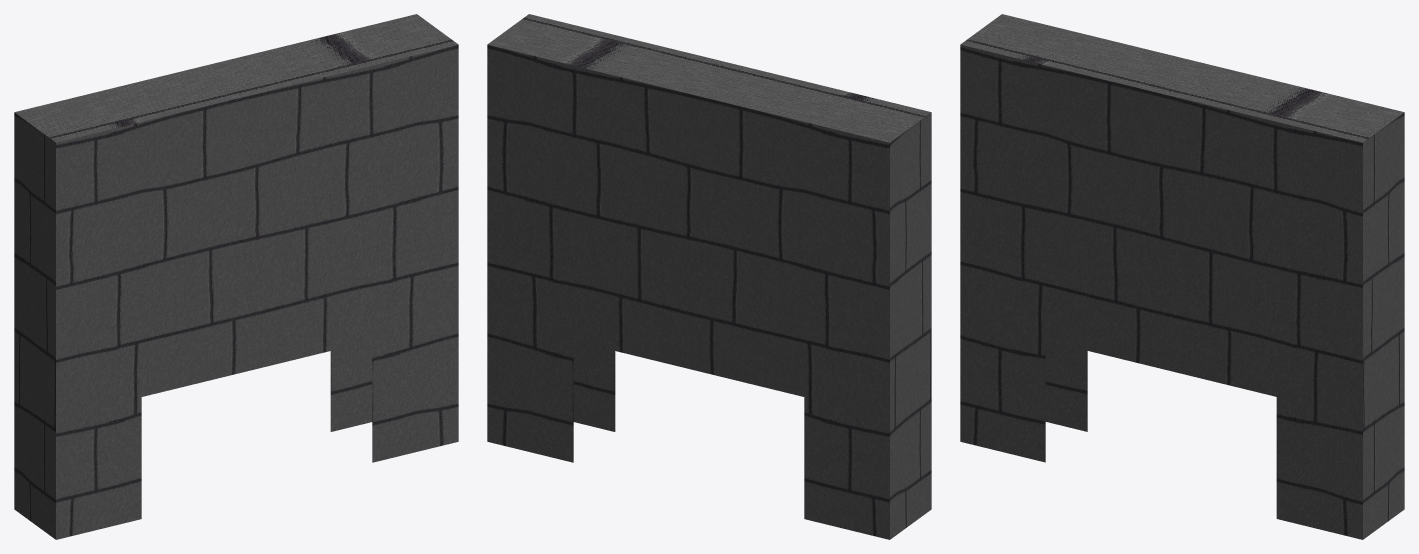
The model's file is mure_portes.fbx.
3 views of the same model, side by side, from view 1: azimuth 30°, elevation 25°; view 2: azimuth 150°, elevation 25°; view 3: azimuth 330°, elevation 25° (orthographic).
Parts seen in each view (by area): view 1: Cube.002; view 2: Cube.002; view 3: Cube.002.
Boxes of the visible parts, box(x1,y1,x2,y2) form: Cube.002: box(14, 14, 458, 539); Cube.002: box(487, 14, 931, 539); Cube.002: box(960, 14, 1404, 539).
Bounding box in the file's own units: 1112 × 1048 × 200.
